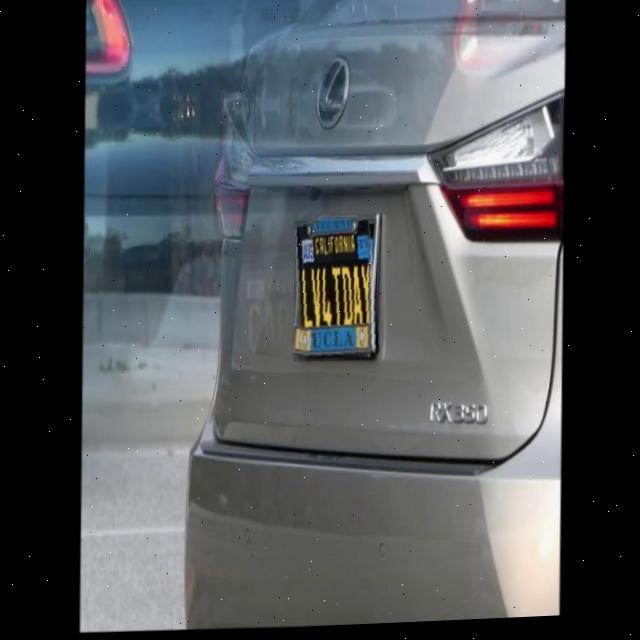LicensePlate: (292, 220, 379, 365)
